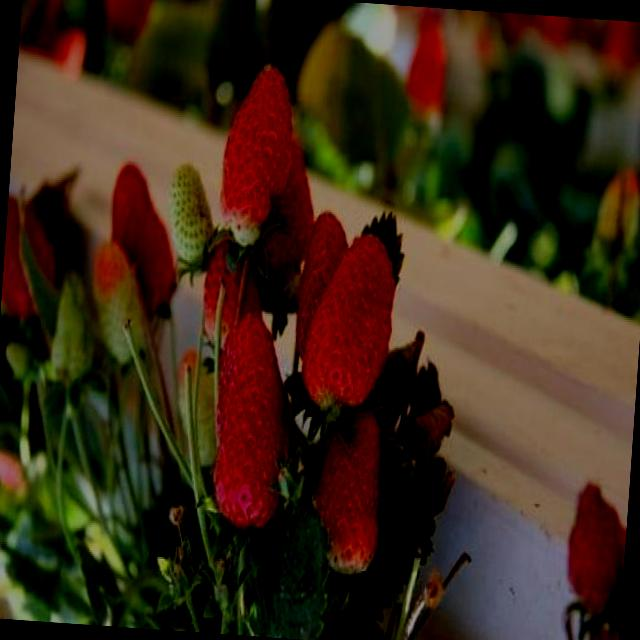Strawberry: (207, 314, 301, 532), (298, 233, 398, 412), (216, 64, 298, 248), (312, 408, 386, 580), (564, 482, 629, 624), (202, 237, 265, 348)
